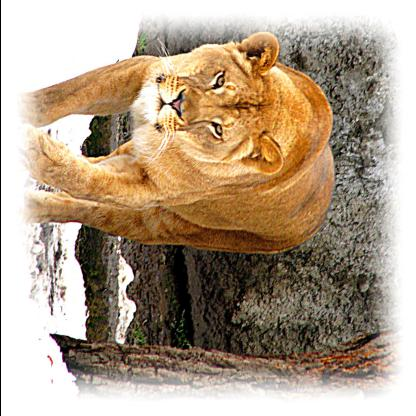lion: (140, 31, 290, 181)
